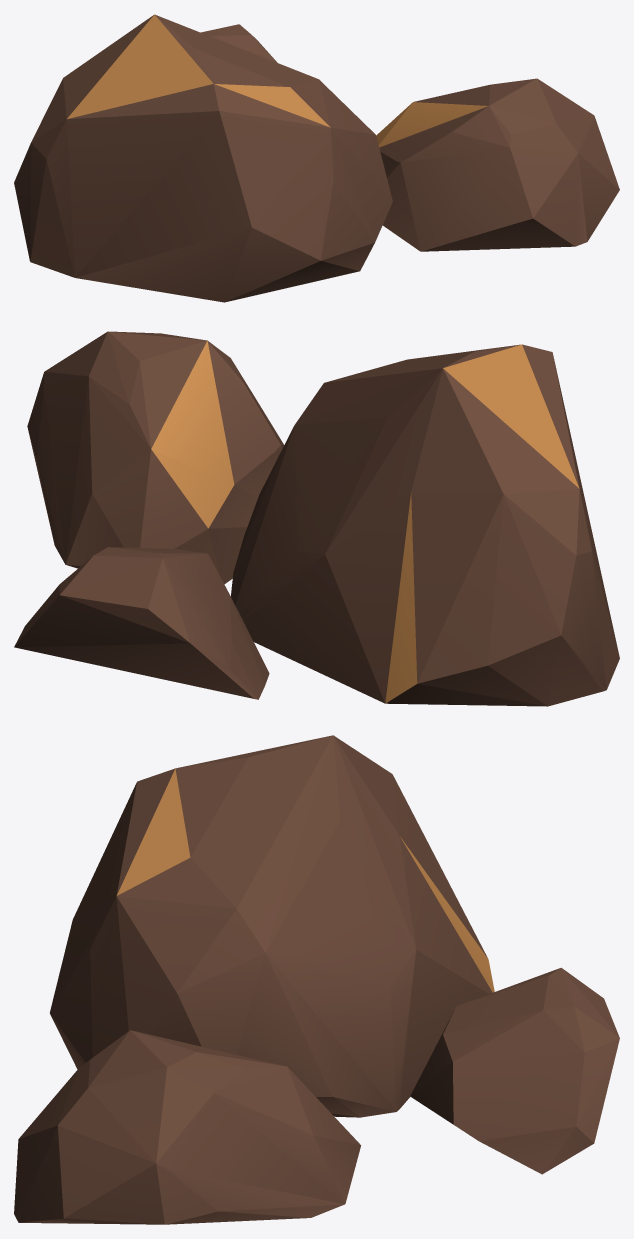
Rendered from rock_b.glb.
The picture shows the model from 3 angles, top to bottom: view 1: azimuth 30°, elevation 25°; view 2: azimuth 150°, elevation 25°; view 3: azimuth 270°, elevation 25°; orthographic projection. The views are drawn at different scales.
Visible parts, largest first — view 1: Rock; view 2: Rock; view 3: Rock.
Part boxes in pixels (<box>): Rock: <box>14,14,619,302</box>; Rock: <box>14,331,619,706</box>; Rock: <box>14,735,619,1224</box>.
Size of the model in its own units: 2.47 by 1.01 by 1.94.
